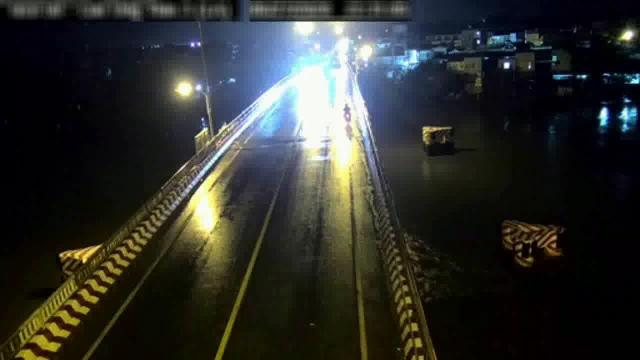Bike: (342, 103, 352, 124)
